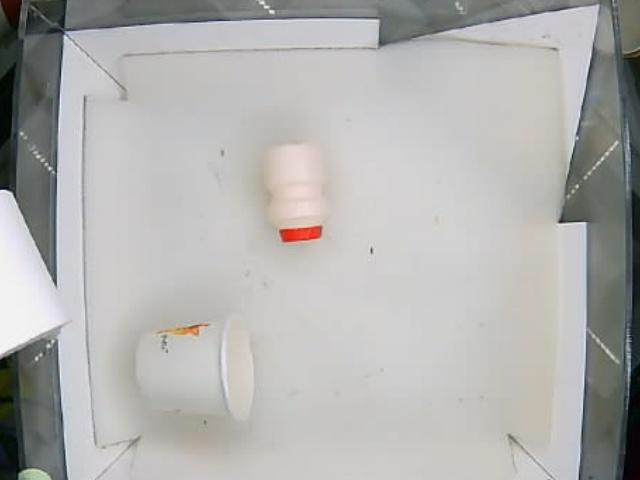Bottle: (258, 140, 330, 241)
Cup: (131, 316, 265, 424)
